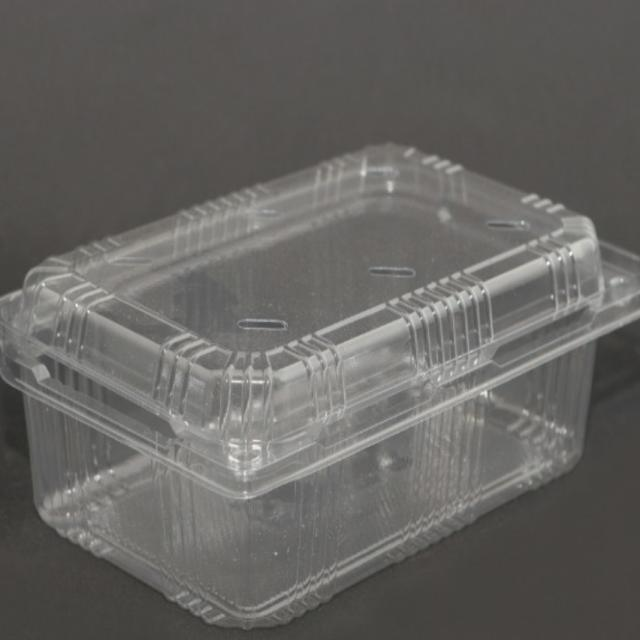recyclable: (2, 110, 640, 635)
